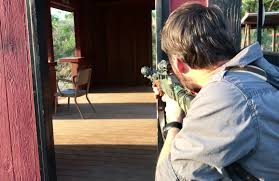Gun: (142, 62, 197, 118)
